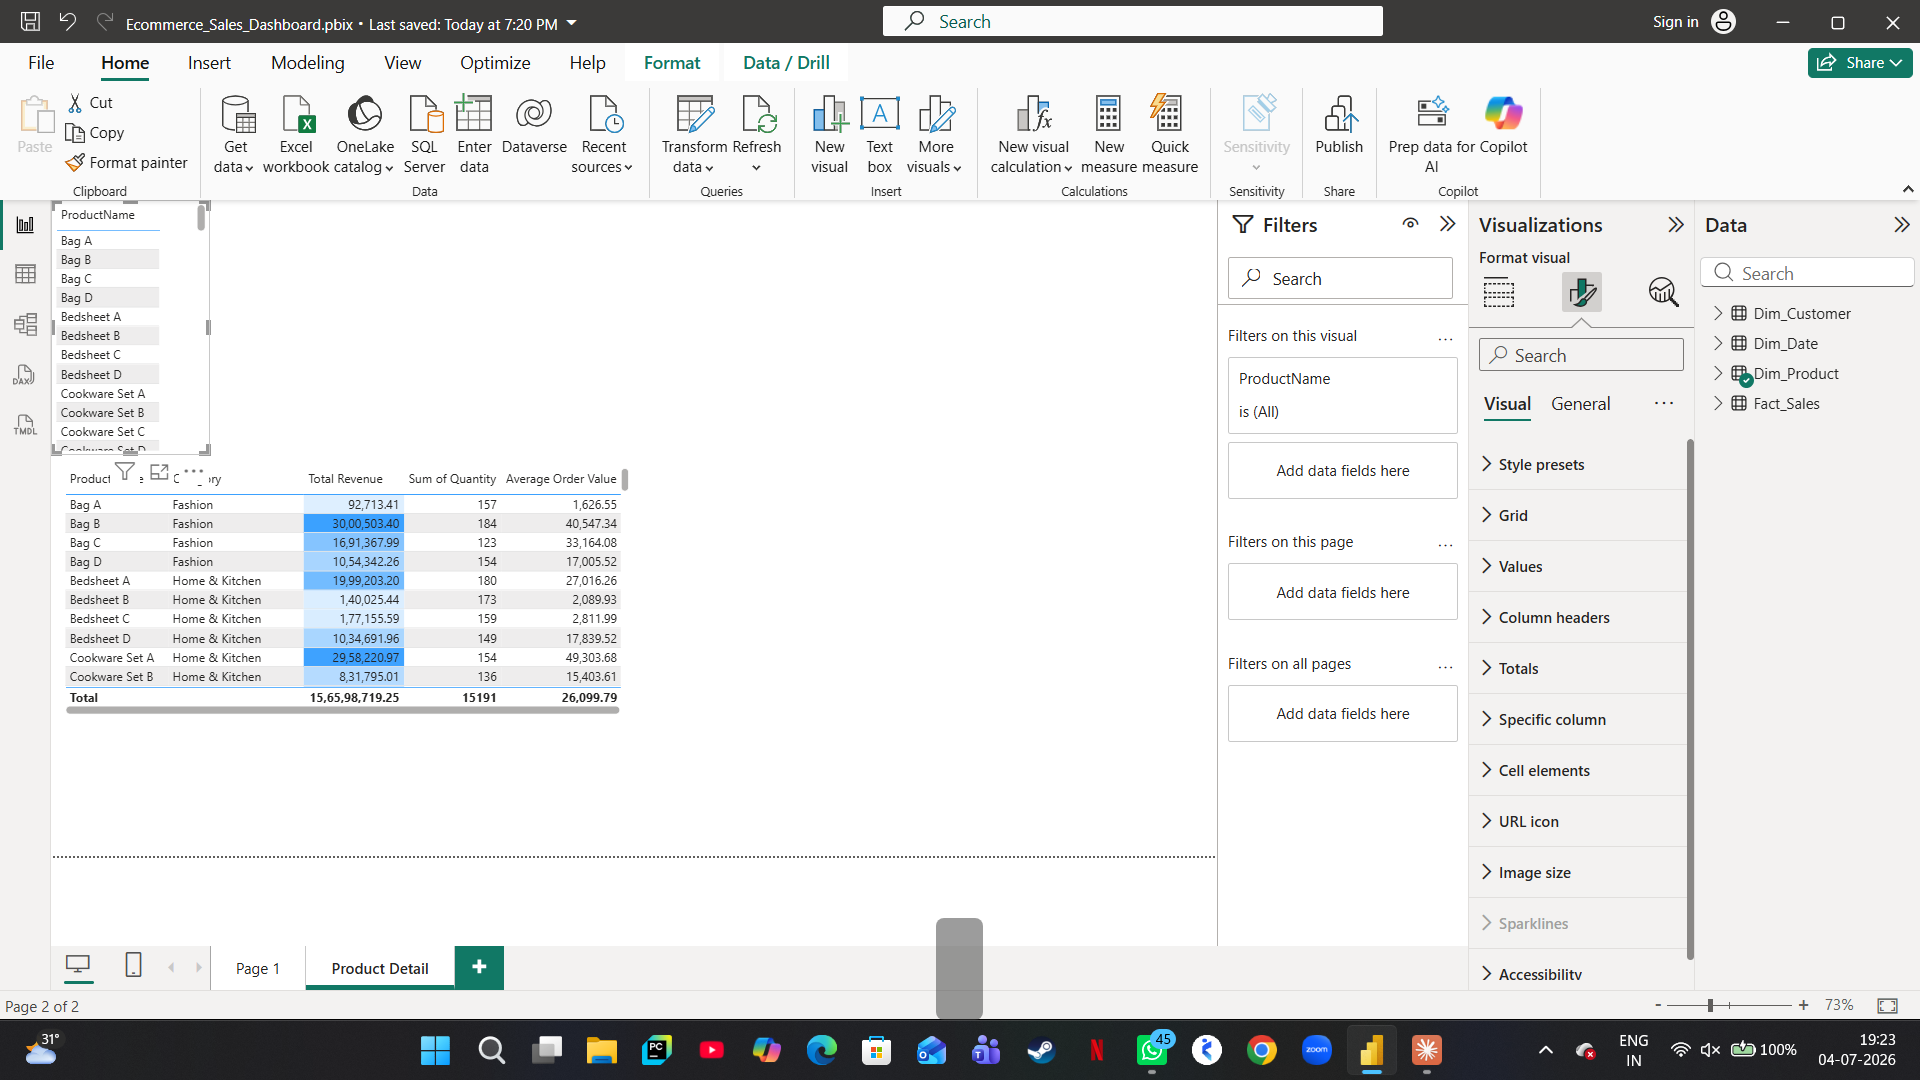

The page's visual inventory and layout, read from the dashboard file:
{"tool":"powerbi","page":{"name":"Product Detail","canvas":[1280,720],"ordinal":1},"visuals":[{"type":"tableEx","fields":{"Values":["Dim_Product.ProductName"]},"box":[0,0,174.3,279.9],"z":0},{"type":"actionButton","box":[0,0,100.2,39.8],"z":1000},{"type":"tableEx","fields":{"Values":["Dim_Product.ProductName","Dim_Product.Category","Fact_Sales.Total Revenue","Sum(Fact_Sales.Quantity)","Fact_Sales.Average Order Value"]},"box":[9.6,289.5,629.8,279.9],"z":2000}]}

Visuals, with their boxes on the page's 1280x720 design canvas (x1, y1, x2, y2). These are canvas units, not pixel positions in the 1920x1080 screenshot, which may show the page scaled, cropped or inside an application window:
tableEx - Dim_Product.ProductName: pyautogui.locateOnScreen(0, 0, 174, 280)
actionButton: pyautogui.locateOnScreen(0, 0, 100, 40)
tableEx - Dim_Product.ProductName x Dim_Product.Category: pyautogui.locateOnScreen(10, 290, 639, 569)
